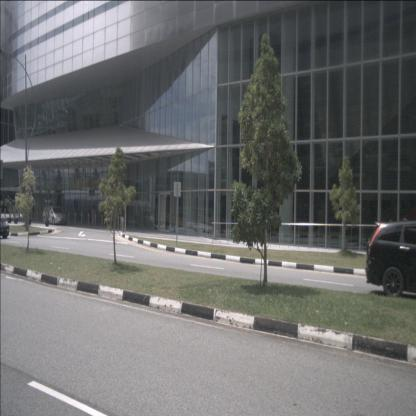vehicle-car: (365, 220, 412, 297), (43, 203, 67, 225), (0, 216, 10, 239)
